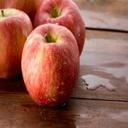apple: (0, 8, 34, 80)
